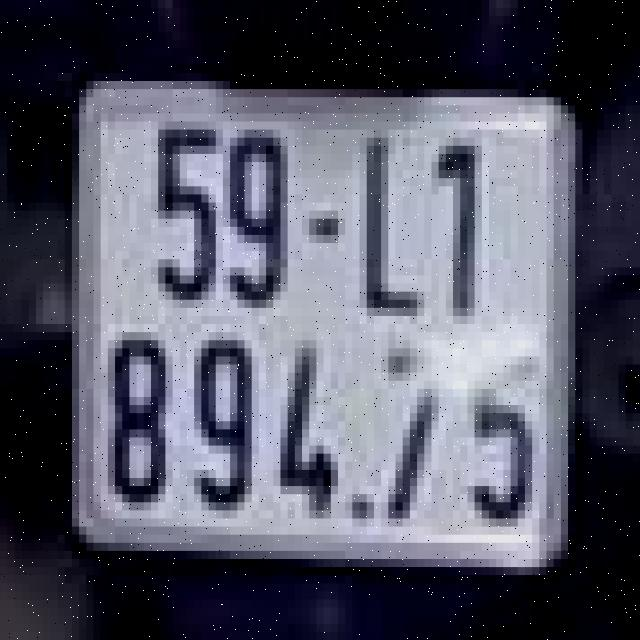1: (432, 126, 496, 328)
4: (277, 332, 341, 527)
5: (148, 113, 226, 308), (460, 348, 540, 535)
7: (363, 320, 450, 531)
8: (100, 332, 172, 519)
9: (187, 328, 266, 523), (223, 126, 302, 320)
L: (356, 130, 428, 324)
